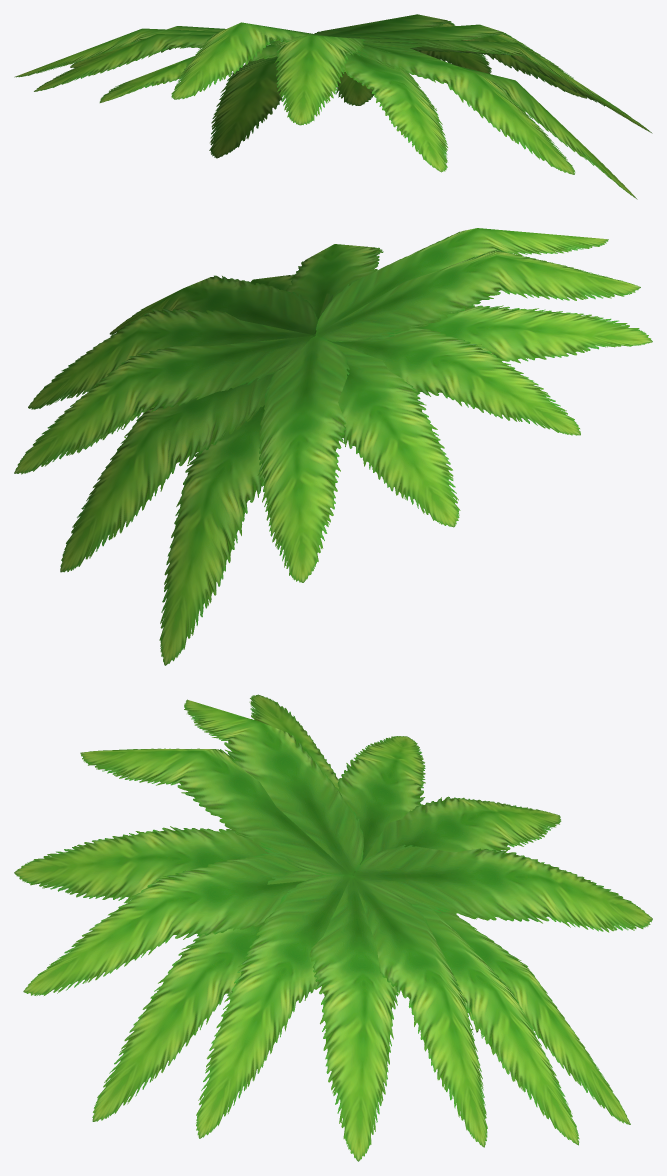
File: PalmCrownMesh101Shape.dae
The picture shows the model from 3 angles, top to bottom: view 1: azimuth 30°, elevation 25°; view 2: azimuth 150°, elevation 25°; view 3: azimuth 270°, elevation 25°; orthographic projection. The views are drawn at different scales.
Parts seen in each view (by area): view 1: PalmCrownMesh101; view 2: PalmCrownMesh101; view 3: PalmCrownMesh101.
Part boxes in pixels (bbox=[...]): PalmCrownMesh101: bbox=[14, 14, 652, 199]; PalmCrownMesh101: bbox=[14, 228, 652, 665]; PalmCrownMesh101: bbox=[14, 694, 652, 1161].
Bounding box in the file's own units: 68.65 × 35.9 × 63.8.
